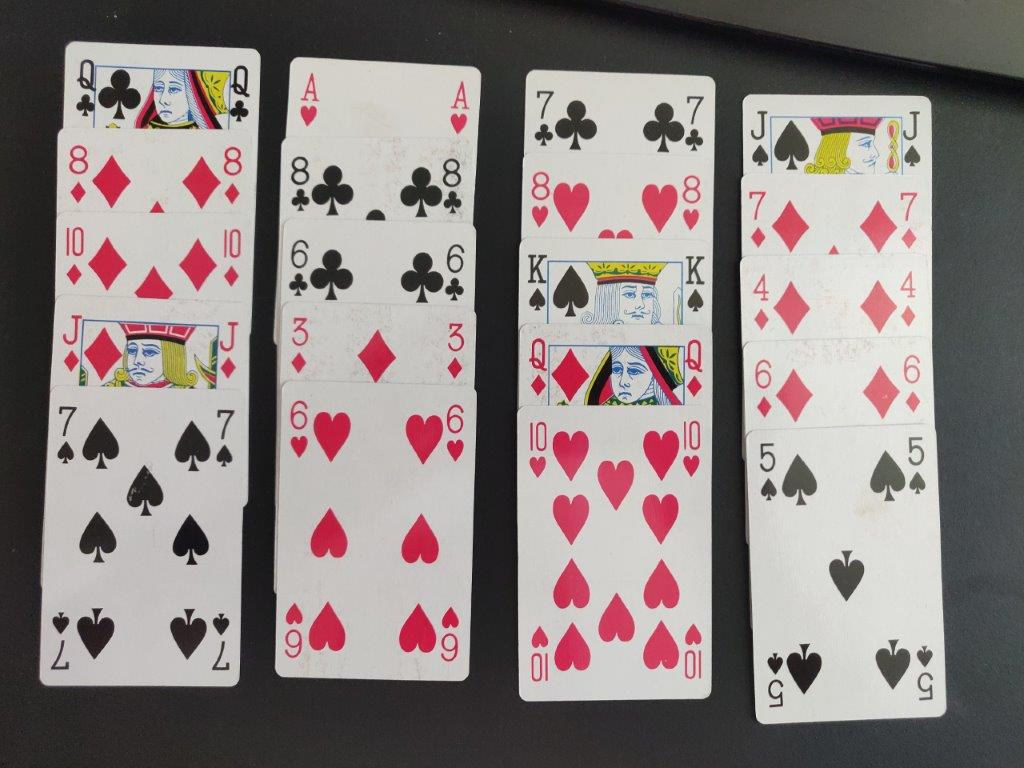10D: (60, 222, 90, 290), (218, 224, 246, 293)
10H: (521, 416, 553, 485), (676, 417, 707, 482)
3D: (439, 318, 470, 385), (285, 311, 313, 379)
4D: (746, 270, 774, 334), (897, 267, 922, 333)
5S: (754, 437, 783, 510), (904, 429, 930, 501)
6C: (442, 237, 467, 309), (284, 235, 311, 301)
6D: (748, 355, 777, 424), (898, 351, 927, 416)
6H: (285, 394, 311, 464), (444, 399, 469, 468)
7C: (530, 86, 559, 149), (682, 91, 708, 155)
7D: (895, 185, 925, 253), (742, 187, 772, 252)
7S: (51, 400, 81, 468), (211, 405, 238, 471)
8C: (284, 150, 315, 221), (438, 154, 466, 219)
8D: (217, 141, 246, 210), (65, 138, 92, 209)
8H: (679, 170, 704, 237), (527, 168, 553, 232)
AH: (442, 75, 473, 140), (295, 64, 324, 133)
JD: (215, 318, 242, 384), (58, 308, 82, 376)
JS: (745, 99, 774, 169), (898, 106, 927, 172)
KS: (522, 247, 554, 318), (681, 249, 710, 317)
QC: (69, 52, 102, 123), (227, 61, 254, 128)
QD: (523, 331, 554, 401), (682, 334, 707, 399)
